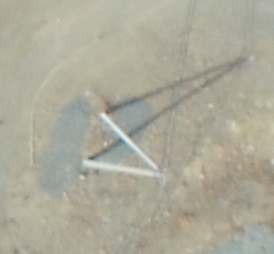opora: (84, 104, 173, 188)
